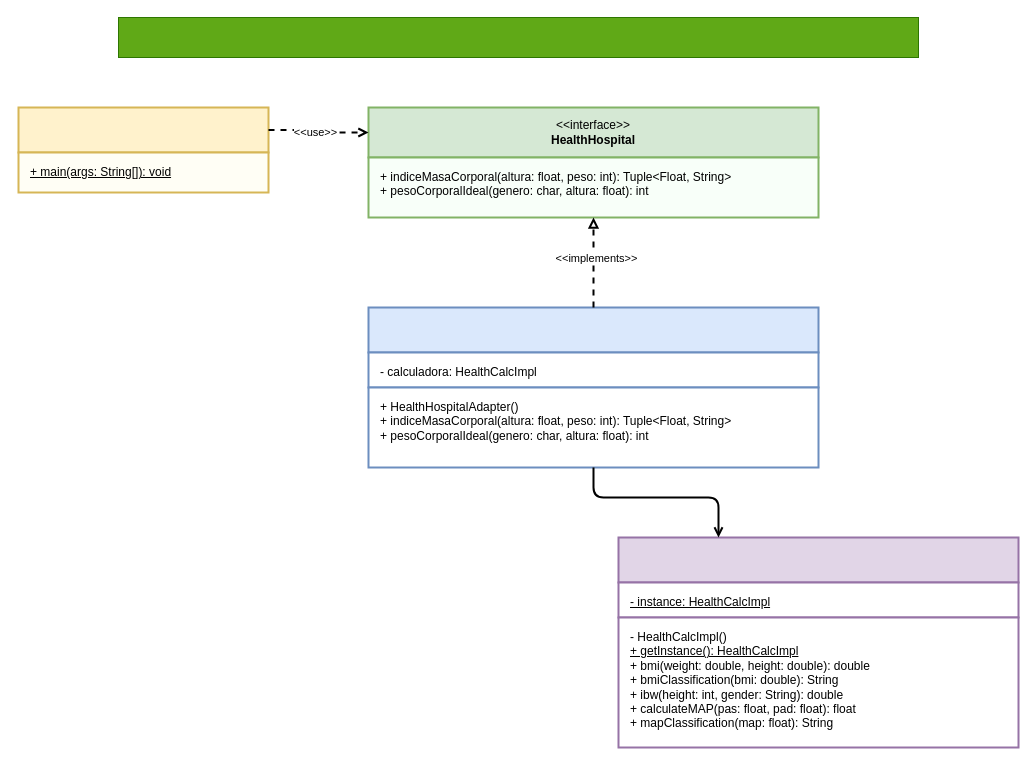
The diagram is 1036 pixels wide and 766 high, and some of its shapes have lost their labels. The shapes that lost their labels are listed below. From the top down, each one's centre as x and y in pixels, then its label:
the point at 518,37: Diagrama UML — Patrón Adapter aplicado a HealthHospital
the point at 143,129: MainP1
the point at 593,329: HealthHospitalAdapter
the point at 818,559: HealthCalcImpl
